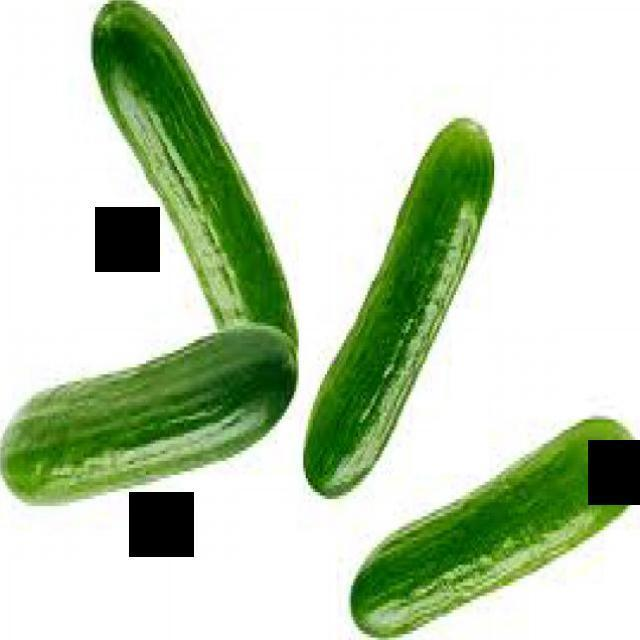cucumber: (300, 111, 497, 499), (84, 1, 296, 347), (346, 412, 640, 638), (0, 323, 299, 510)
